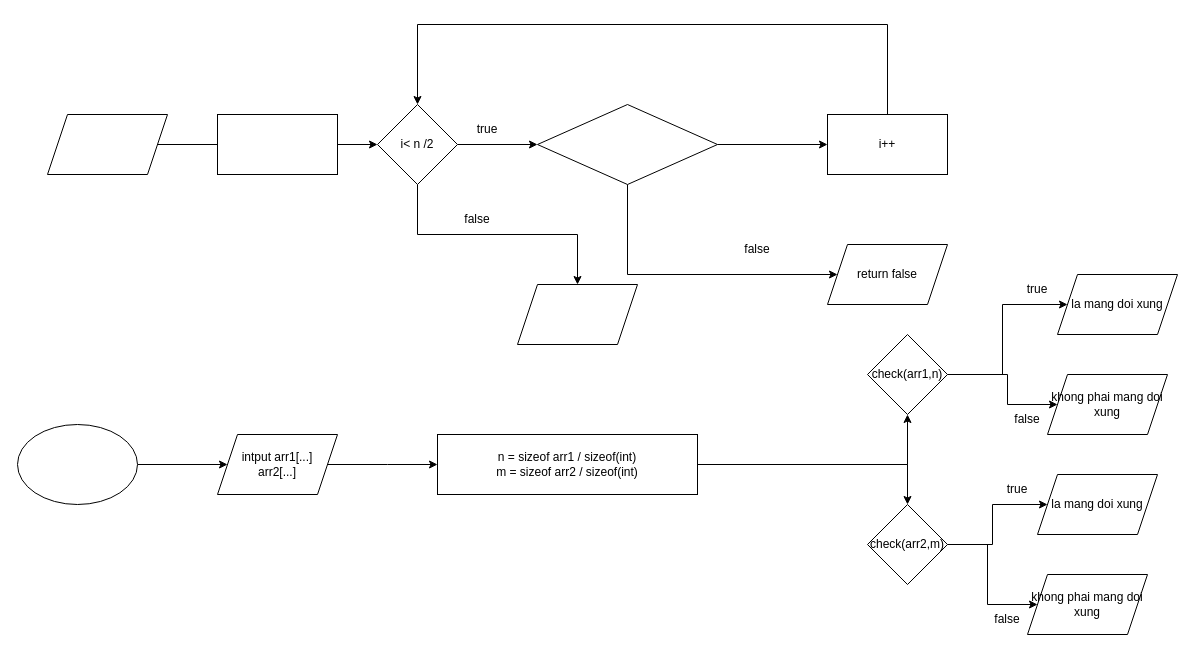
The diagram is 1195 pixels wide and 652 high, and some of its shapes have lost their labels. The shapes that lost their labels are listed below. From the top down, each one's centre as x and y in pixels, then its label:
the point at 107,144: check(arr,n)
the point at 277,144: i = 0
the point at 627,144: a[i] != a[n-i-1]
the point at 577,314: return true
the point at 77,464: start
